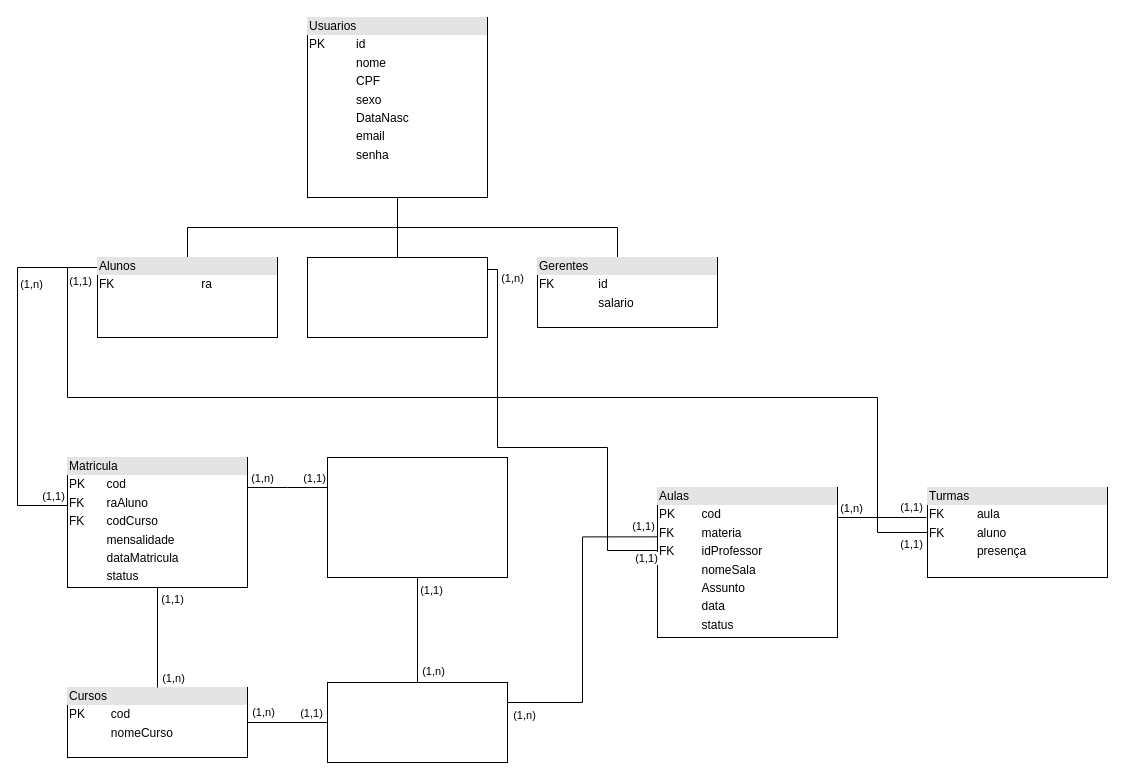
This 1125x780 diagram has some shape labels left out. Here are the shapes that lost their labels. From the top down, the centre of each, then its label:
At pixel 397 297: "Professores FK id salario".
At pixel 417 517: "Notas PK matricula FK materia nota status".
At pixel 417 722: "Materias PK cod FK codCurso nomeMateria".
